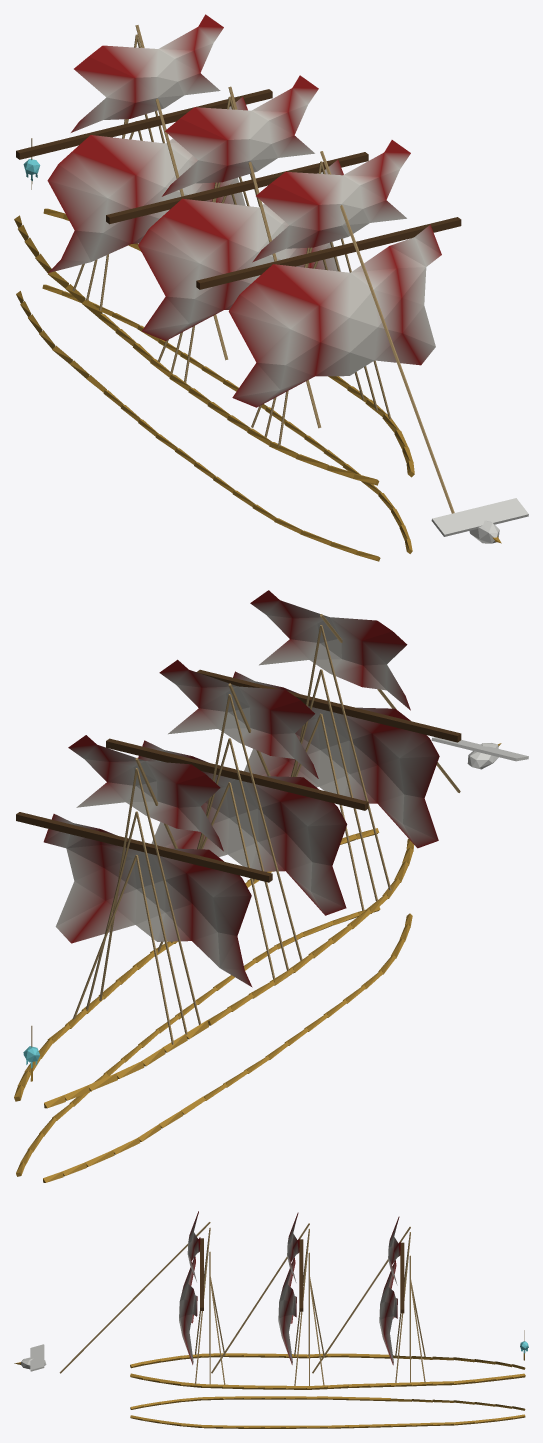
The model's file is upg_galleon_t2_lod1.glb.
The picture shows the model from 3 angles, top to bottom: view 1: azimuth 30°, elevation 25°; view 2: azimuth 150°, elevation 25°; view 3: azimuth 270°, elevation 25°; orthographic projection. The views are drawn at different scales.
Visible parts, largest first — view 1: geometry_0; view 2: geometry_0; view 3: geometry_0.
Part boxes in pixels (x1,y1,x2,y2): geometry_0: [14, 14, 528, 561]; geometry_0: [14, 590, 528, 1182]; geometry_0: [14, 1211, 528, 1428].
Size of the model in its own units: 10.07 by 13.12 by 31.61.
